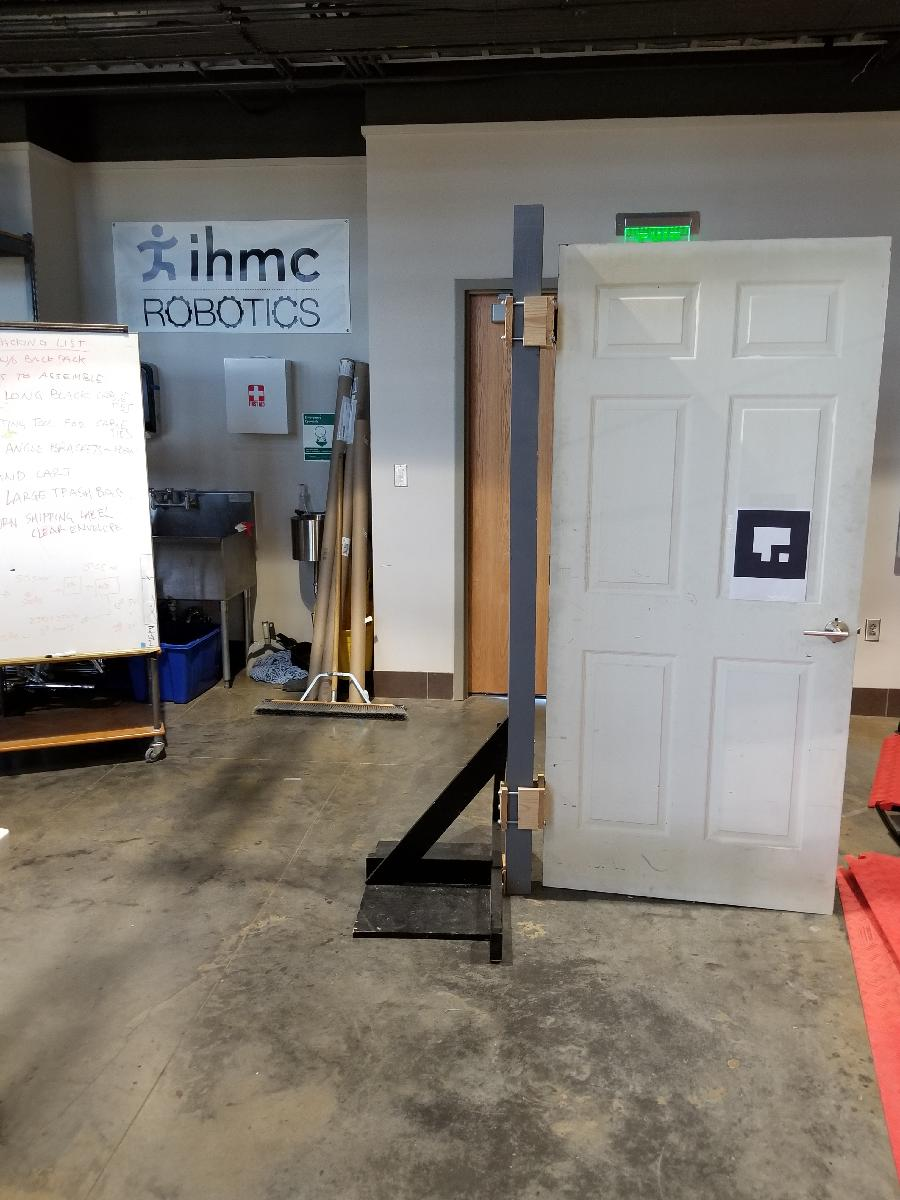door: (538, 234, 900, 924)
doorHandle: (800, 614, 858, 654)
